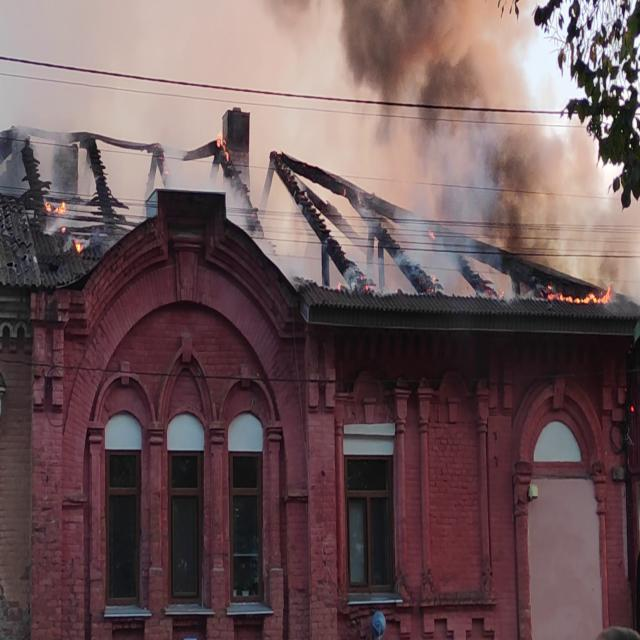fire: (539, 240, 618, 308)
smoke: (342, 2, 537, 236)
